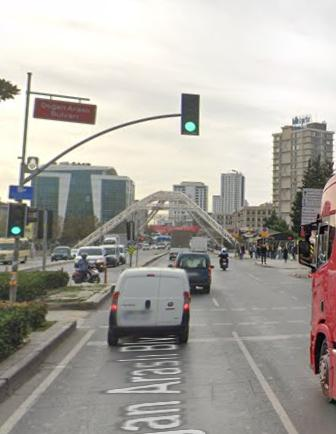greenlight: (181, 93, 200, 137), (10, 202, 24, 238)
